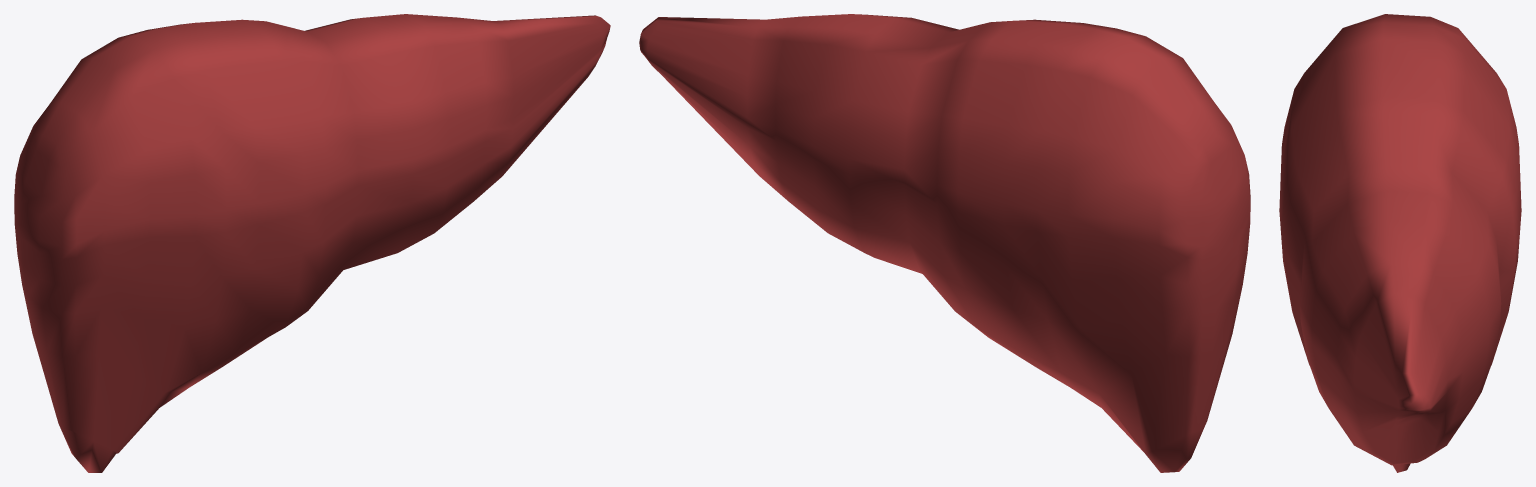
The model's file is human_liver.fbx.
3 views of the same model, side by side, from view 1: azimuth 30°, elevation 25°; view 2: azimuth 150°, elevation 25°; view 3: azimuth 270°, elevation 25° (orthographic). The views are drawn at different scales.
Visible parts, largest first — view 1: pCube1; view 2: pCube1; view 3: pCube1.
Boxes of the visible parts, x1,y1,x2,y2 form: pCube1: [14, 14, 610, 472]; pCube1: [639, 14, 1250, 472]; pCube1: [1279, 14, 1521, 472].
Size of the model in its own units: 186 by 128 by 58.84.
